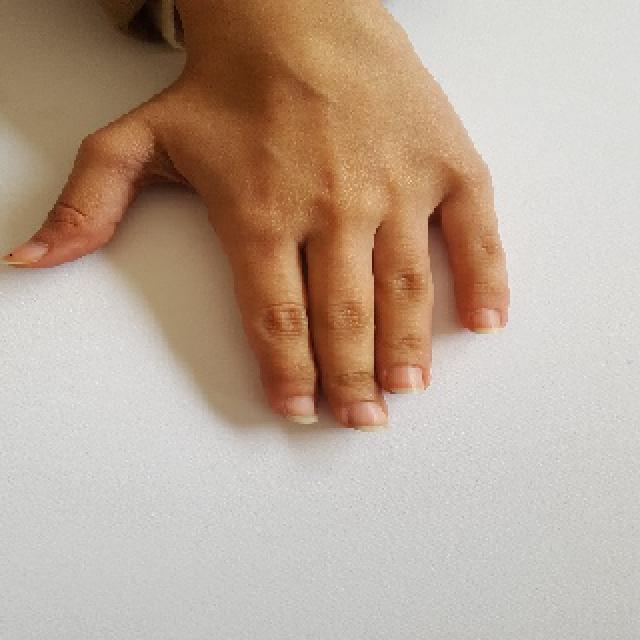Nail: (0, 240, 49, 266), (349, 401, 388, 430), (386, 366, 425, 394), (284, 395, 318, 424), (470, 308, 502, 332)
